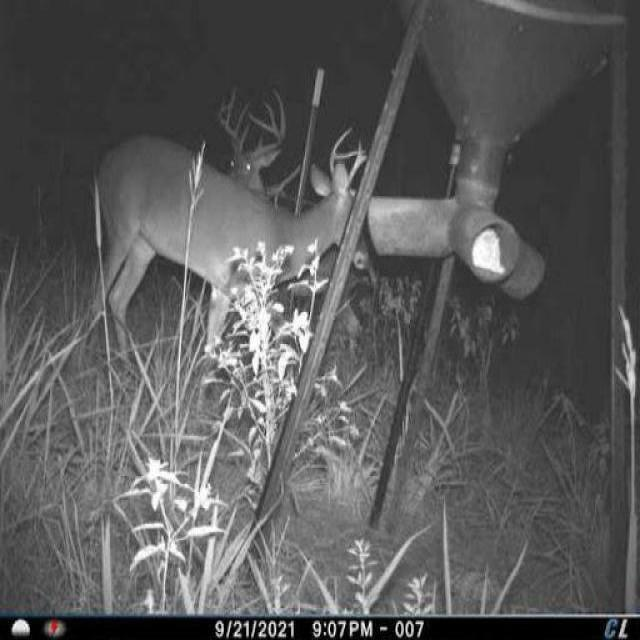deer: (87, 125, 365, 424), (215, 85, 295, 198)
